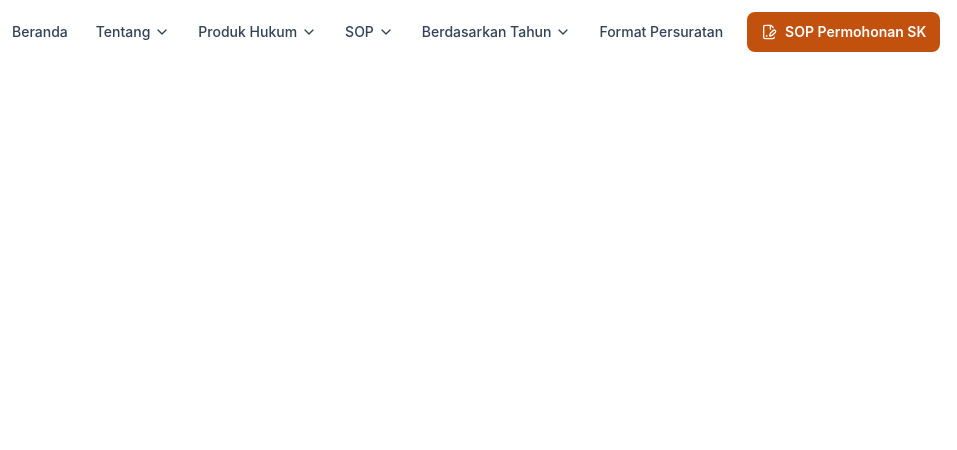
Test: menu SOP › SOP adalah dropdown tersendiri, terpisah dari Produk Hukum
Click the button "SOP": coordinates (370, 32) [333,14,406,50]
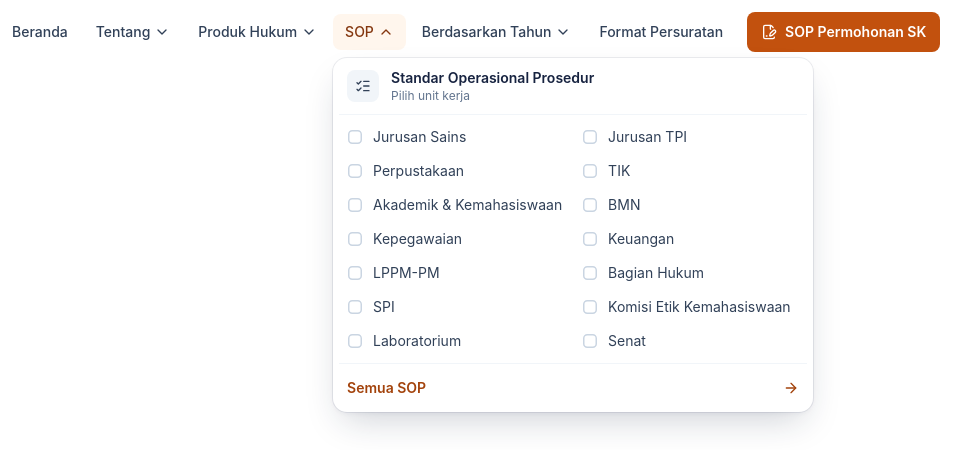
Result: the button "SOP" is expanded at [333,14,406,50]
